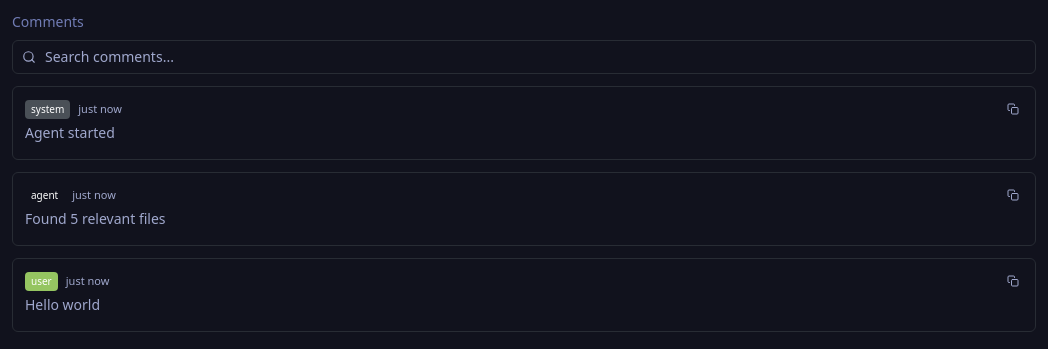
Test: CommentsList › comment search › should clear search query when Escape is pressed in search input
Type "hello" into the field with test id "comment-search-input" at (524, 57), box [12,40,1036,74]
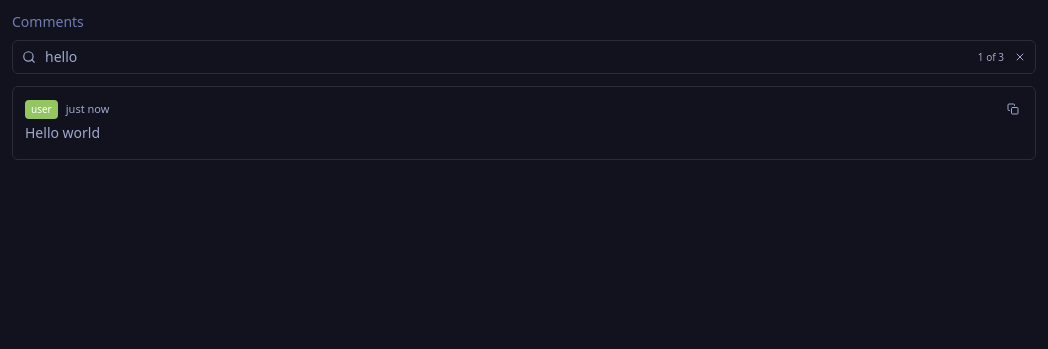
Now the text "Found 5 relevant files" is gone
Press Escape in the field with test id "comment-search-input", box [12,40,1036,74]
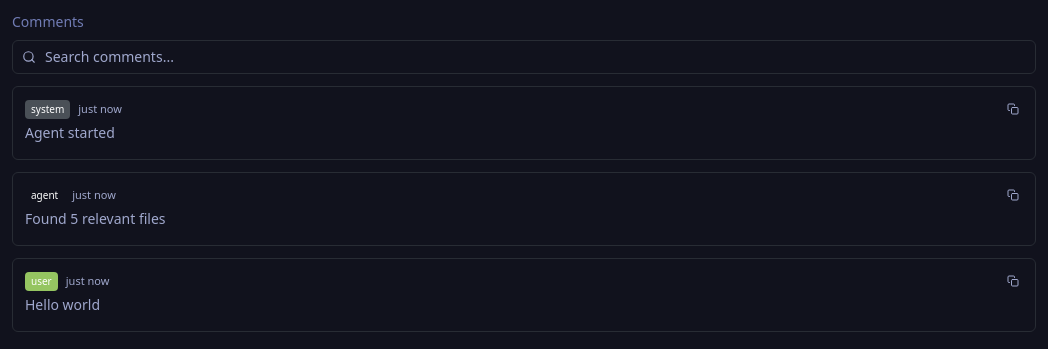
Expected: the text "Hello world" is shown, [25,295,100,314]
Now the text "Found 5 relevant files" is shown, box [25,209,166,228]
Now the text "Agent started" is shown, box [25,123,115,142]
